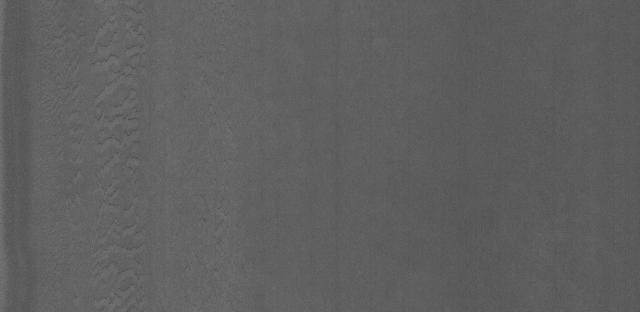silk_spot: (81, 7, 155, 312)
